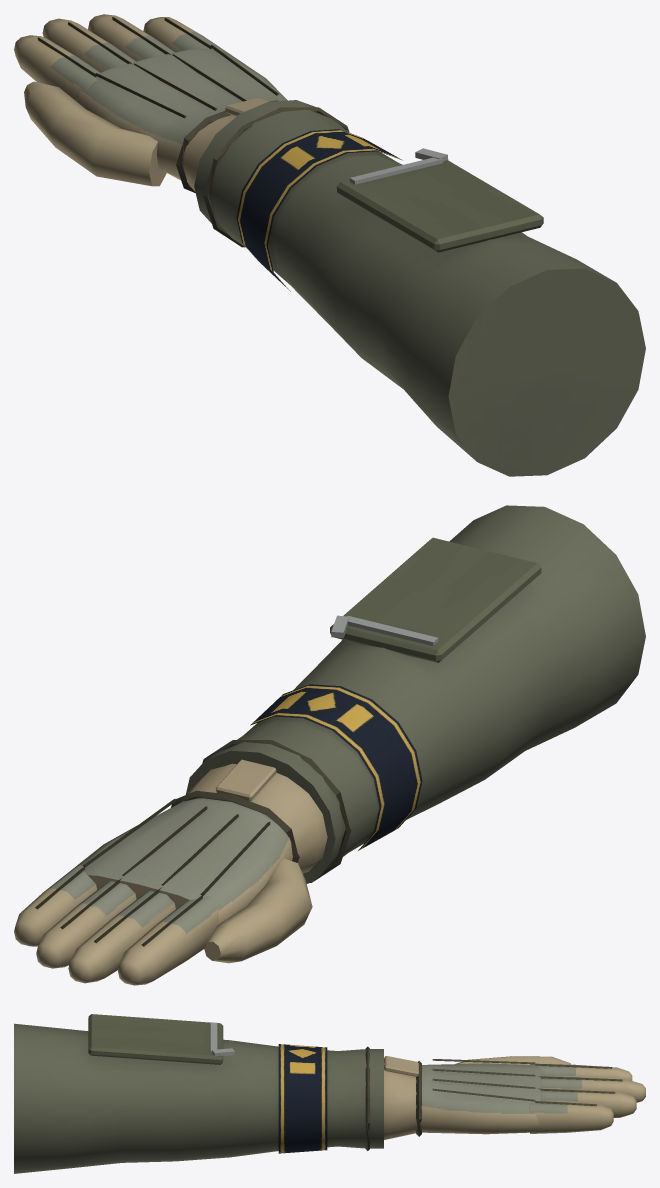
File: pilot_arm_fp.glb
3 views of the same model, one above another, from view 1: azimuth 30°, elevation 25°; view 2: azimuth 150°, elevation 25°; view 3: azimuth 270°, elevation 25° (orthographic). The views are drawn at different scales.
Parts seen in each view (by area): view 1: lod0; view 2: lod0; view 3: lod0.
Part boxes in pixels (x1,y1,x2,y2): lod0: [14, 14, 645, 476]; lod0: [14, 505, 645, 985]; lod0: [14, 1014, 645, 1173].
Size of the model in its own units: 0.1248 by 0.1114 by 0.468.
Materials: 1 (1 with a texture image).
